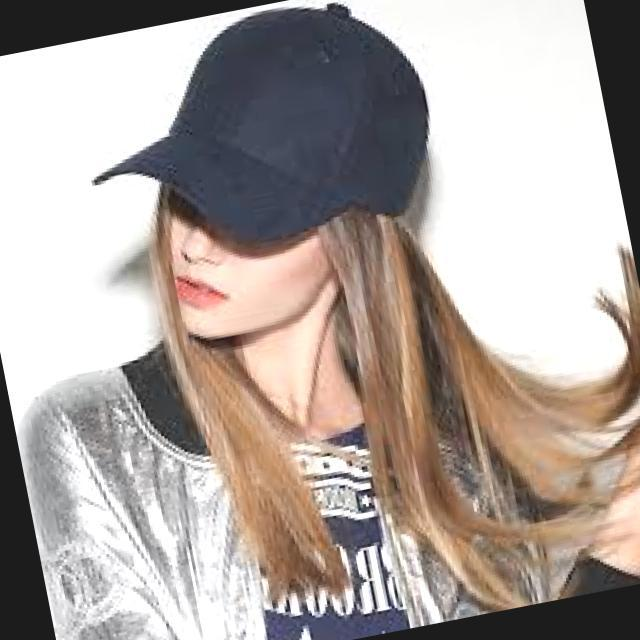cap: (49, 0, 470, 293)
